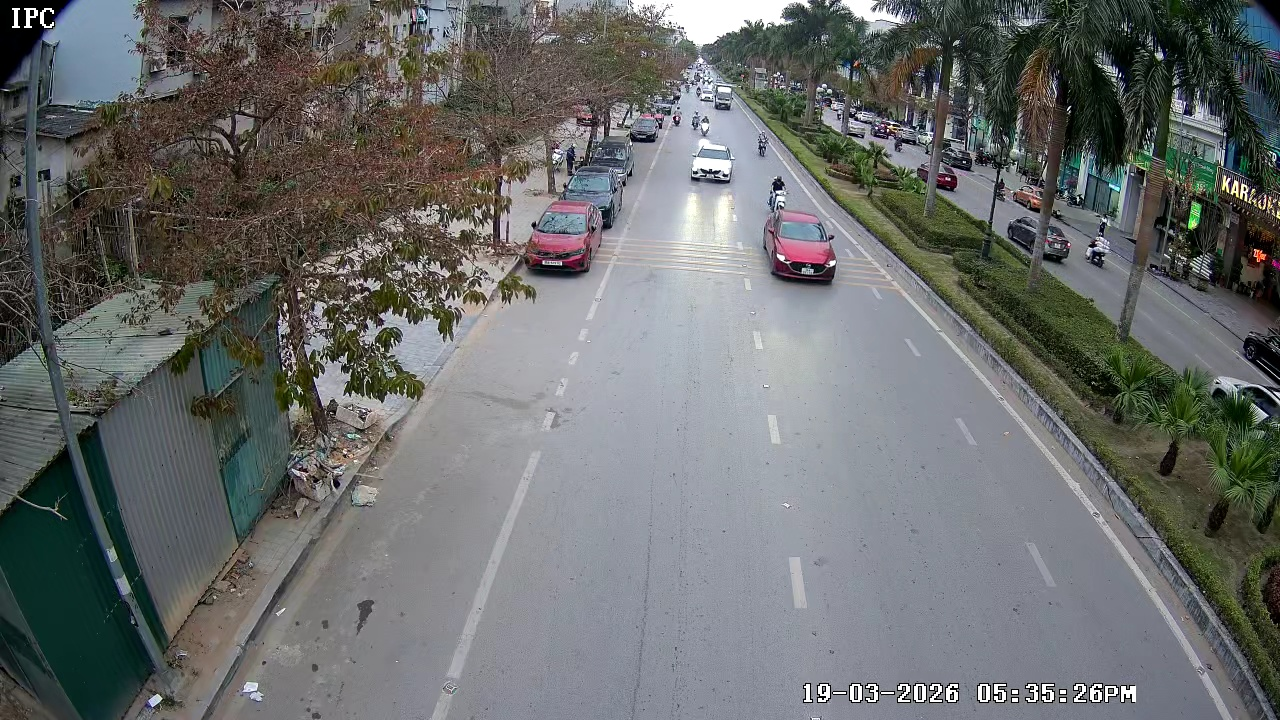car: (524, 199, 602, 276), (762, 210, 838, 283), (688, 140, 734, 185)
motorbike: (764, 168, 788, 213), (754, 128, 772, 156), (700, 115, 711, 135)
